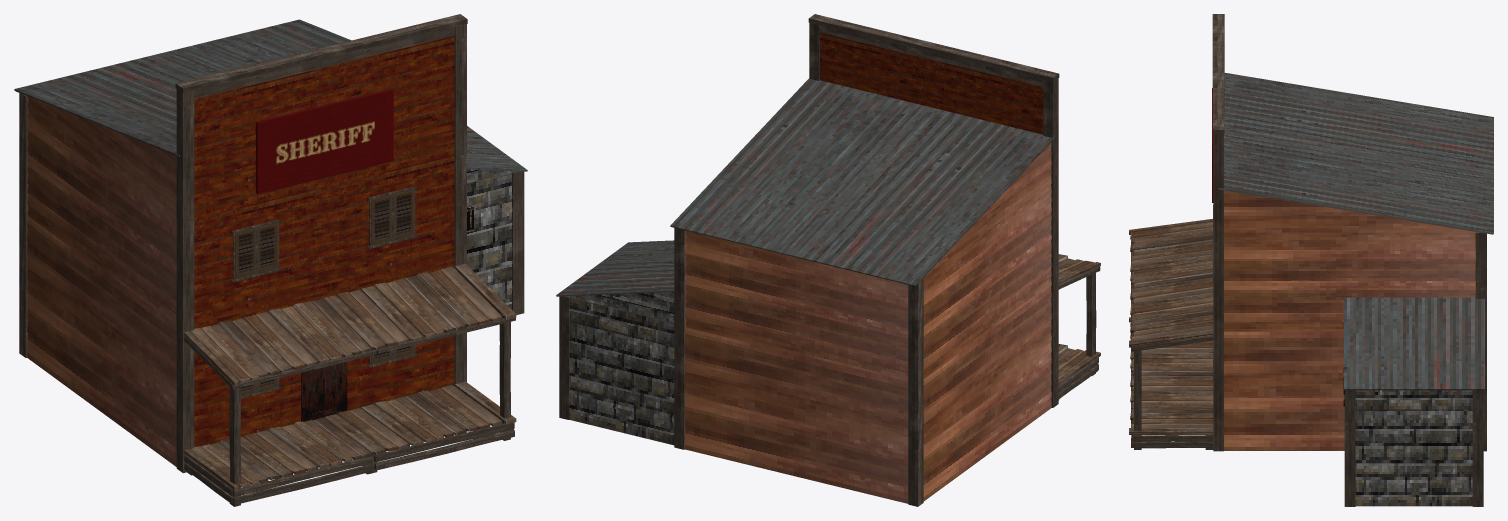
Rendered from Sheriff_Building.fbx.
The picture shows the model from 3 angles, left to right: view 1: azimuth 30°, elevation 25°; view 2: azimuth 150°, elevation 25°; view 3: azimuth 270°, elevation 25°; orthographic projection. The views are drawn at different scales.
Visible parts, largest first — view 1: Sheriff_Building; view 2: Sheriff_Building; view 3: Sheriff_Building.
Part boxes in pixels (left/top/right/bottom): Sheriff_Building: left=14, top=14, right=527, bottom=506; Sheriff_Building: left=556, top=14, right=1100, bottom=506; Sheriff_Building: left=1129, top=14, right=1493, bottom=506.
Bounding box in the file's own units: 933 × 810 × 833.
10 materials, 10 textured.
